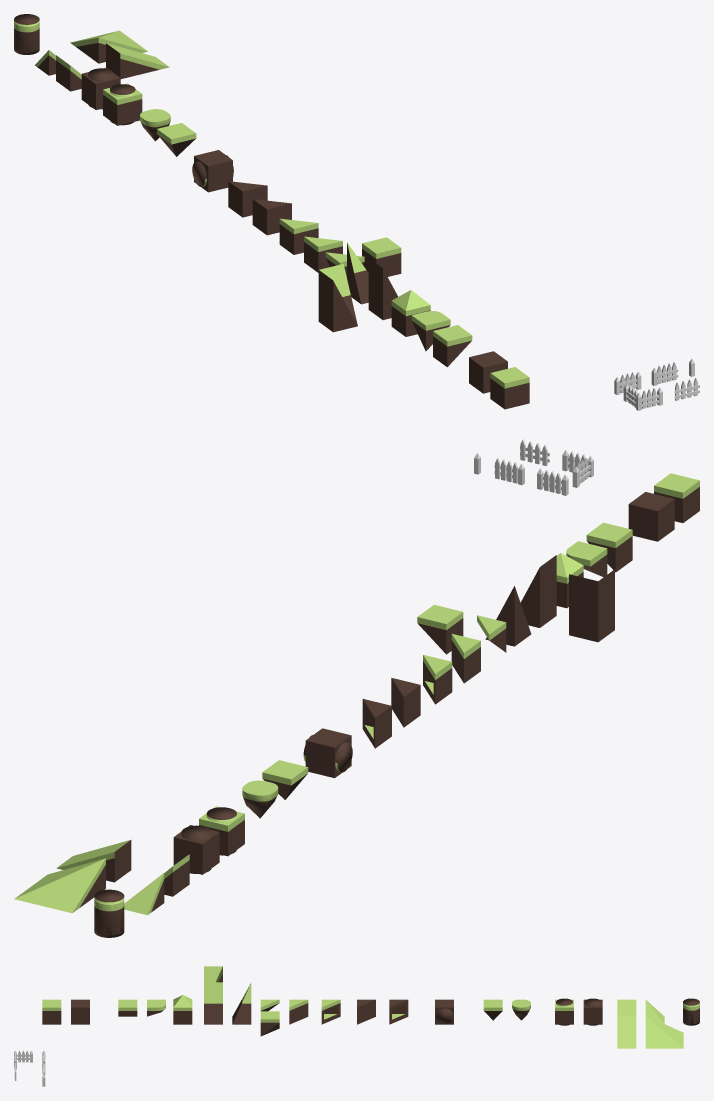
The model's file is Tiles 06.dae.
3 renders of one model, top to bottom at view 1: azimuth 30°, elevation 25°; view 2: azimuth 150°, elevation 25°; view 3: azimuth 270°, elevation 25°, orthographic. The views are drawn at different scales.
Parts seen in each view (by area): view 1: 18 Wall Slanted Concave Corner -col, 01 Ground Base -col, 19 Ground Slope2 -col, 05 Wall Slanted -col, 04 Ground Spike -col, 15 Ground Trinagle Alternative -col, 02 Ground Edge -col, 13 Ground Hole -col, 10 Ground Block Hollow -col, 09 Ground Triangle Block -col, 19b Ground Slope2 Corner -col, 01b Ground Block -col (+12 smaller); view 2: 19b Ground Slope2 Corner -col, 18 Wall Slanted Concave Corner -col, 01b Ground Block -col, 05 Wall Slanted -col, 10 Ground Block Hollow -col, 01 Ground Base -col, 14 Ground Block Hole -col, 15 Ground Trinagle Alternative -col, 19 Ground Slope2 -col, 02 Ground Edge -col, 09b Ground Triangle Hollow -col.001, 09b Ground Triangle Block Hollow -col (+13 smaller); view 3: 19b Ground Slope2 Corner -col, 05 Wall Slanted -col, 19 Ground Slope2 -col, 04 Ground Spike -col, 06 Wall Slanted Corner -col, 01 Ground Base -col, 01b Ground Block -col, 09b Ground Triangle Hollow -col.001, 09b Ground Triangle Block Hollow -col, 15 Ground Trinagle Alternative -col, 08 Ground Trinagle 2 -col, 09 Ground Triangle Block -col (+13 smaller).
Part boxes in pixels (x1,y1,x2,y2): 18 Wall Slanted Concave Corner -col: [318, 264, 357, 332]; 01 Ground Base -col: [490, 367, 529, 409]; 19 Ground Slope2 -col: [106, 43, 169, 78]; 05 Wall Slanted -col: [368, 258, 397, 319]; 04 Ground Spike -col: [391, 290, 430, 336]; 15 Ground Trinagle Alternative -col: [362, 237, 401, 276]; 02 Ground Edge -col: [433, 325, 472, 367]; 13 Ground Hole -col: [103, 83, 142, 125]; 10 Ground Block Hollow -col: [194, 150, 232, 192]; 09 Ground Triangle Block -col: [252, 199, 291, 235]; 19b Ground Slope2 Corner -col: [70, 30, 147, 63]; 01b Ground Block -col: [469, 351, 507, 393]; 19b Ground Slope2 Corner -col: [14, 858, 105, 913]; 18 Wall Slanted Concave Corner -col: [569, 569, 614, 642]; 01b Ground Block -col: [628, 492, 674, 541]; 05 Wall Slanted -col: [520, 555, 556, 627]; 10 Ground Block Hollow -col: [305, 728, 351, 778]; 01 Ground Base -col: [654, 473, 699, 522]; 14 Ground Block Hole -col: [173, 825, 219, 874]; 15 Ground Trinagle Alternative -col: [417, 604, 463, 654]; 19 Ground Slope2 -col: [56, 840, 131, 882]; 02 Ground Edge -col: [586, 522, 632, 572]; 09b Ground Triangle Hollow -col.001: [423, 654, 452, 704]; 09b Ground Triangle Block Hollow -col: [362, 699, 391, 748]; 19b Ground Slope2 Corner -col: [645, 1016, 683, 1048]; 05 Wall Slanted -col: [204, 982, 222, 1024]; 19 Ground Slope2 -col: [617, 1015, 636, 1048]; 04 Ground Spike -col: [173, 995, 192, 1024]; 06 Wall Slanted Corner -col: [232, 983, 251, 1024]; 01 Ground Base -col: [42, 999, 61, 1024]; 01b Ground Block -col: [71, 999, 89, 1024]; 09b Ground Triangle Hollow -col.001: [321, 999, 340, 1024]; 09b Ground Triangle Block Hollow -col: [389, 999, 408, 1024]; 15 Ground Trinagle Alternative -col: [260, 1011, 279, 1036]; 08 Ground Trinagle 2 -col: [289, 999, 308, 1024]; 09 Ground Triangle Block -col: [357, 999, 375, 1024].
Bounding box in the file's own units: 19.31 × 72.26 × 5.
